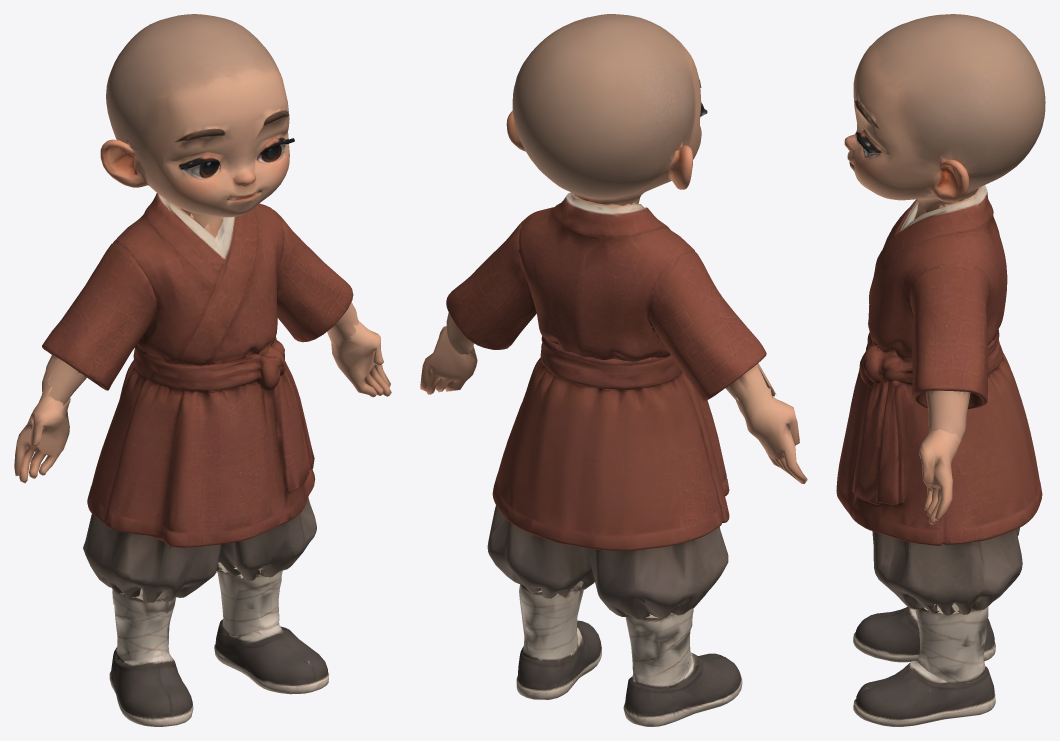
The model's file is novice-tripo.glb.
The picture shows the model from 3 angles, left to right: view 1: azimuth 30°, elevation 25°; view 2: azimuth 150°, elevation 25°; view 3: azimuth 270°, elevation 25°; orthographic projection. The views are drawn at different scales.
Visible parts, largest first — view 1: robe, skin, legs, shoes; view 2: robe, skin, legs, shoes; view 3: robe, skin, legs, shoes.
Boxes of the visible parts, <box> form: robe: <box>42,193,353,547</box>; skin: <box>14,14,391,483</box>; legs: <box>83,497,316,663</box>; shoes: <box>109,619,329,726</box>; robe: <box>446,192,766,550</box>; skin: <box>420,14,807,483</box>; legs: <box>487,505,728,690</box>; shoes: <box>516,620,742,726</box>; robe: <box>836,185,1042,545</box>; skin: <box>844,14,1045,524</box>; legs: <box>872,527,1022,682</box>; shoes: <box>853,606,995,726</box>.
Size of the model in its own units: 0.7068 by 1.18 by 0.3387.
1 material, 1 textured.
